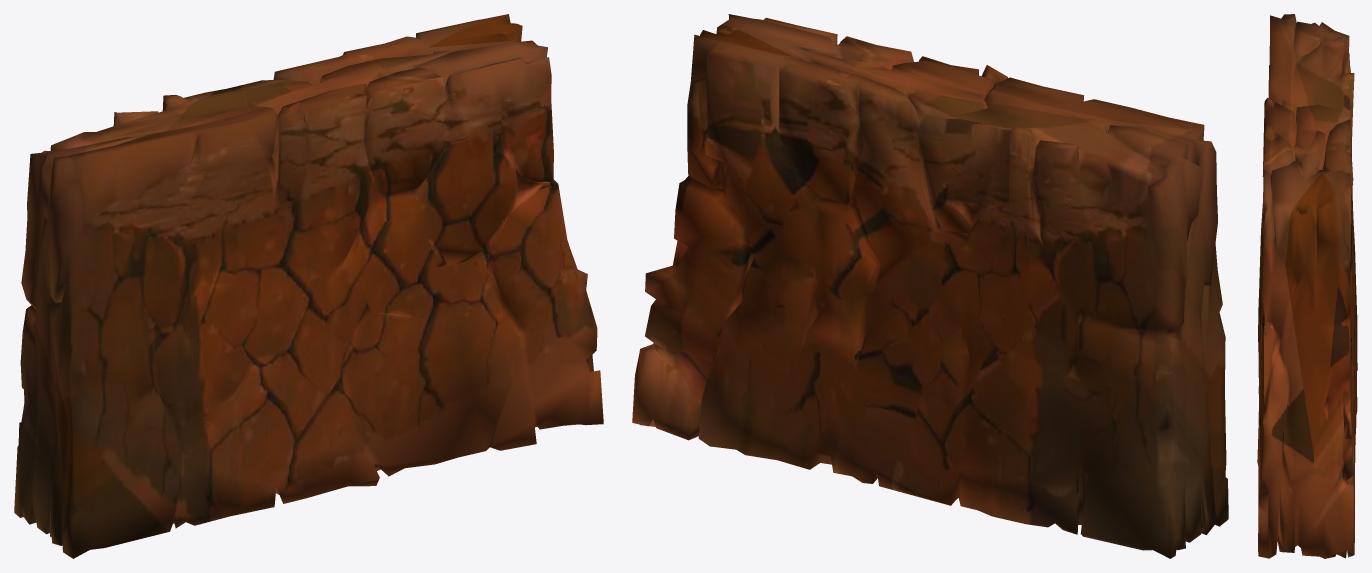
The model's file is toad-prop3d-cut-bank.glb.
3 views of the same model, side by side, from view 1: azimuth 30°, elevation 25°; view 2: azimuth 150°, elevation 25°; view 3: azimuth 270°, elevation 25° (orthographic). The views are drawn at different scales.
Parts seen in each view (by area): view 1: world; view 2: world; view 3: world.
Boxes of the visible parts, box(x1,y1,x2,y2) form: world: box(14, 14, 603, 558); world: box(632, 14, 1228, 558); world: box(1257, 14, 1357, 558).
Size of the model in its own units: 0.42 by 0.3 by 0.08.
Materials: 1 (1 with a texture image).
